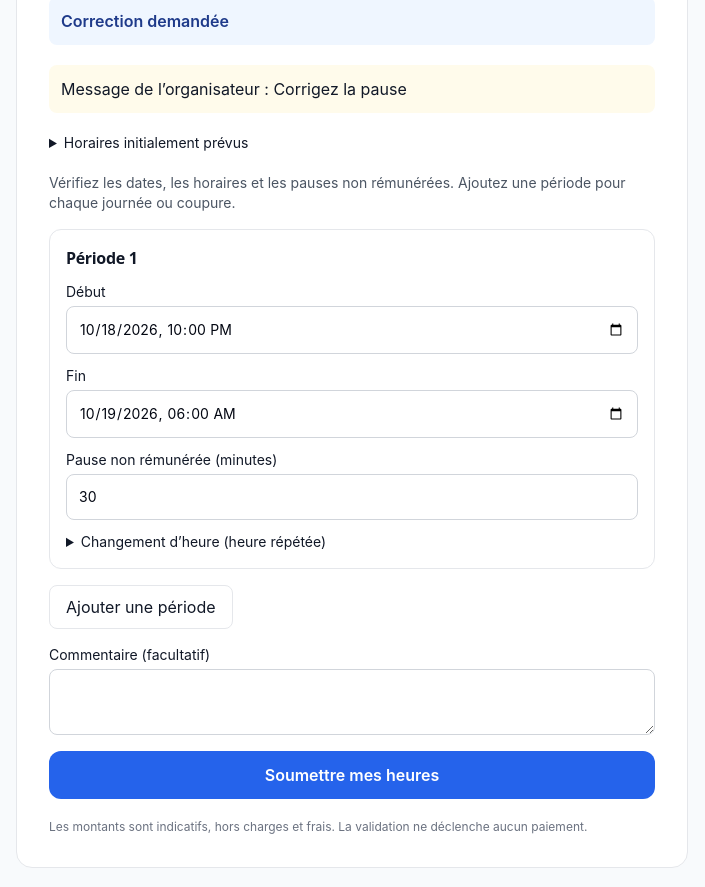
it: correction reopens submitted periods and preserves organizer reason
(page scrolled)
Expected: the button "Soumettre mes heures" is shown, left=49, top=751, right=655, bottom=799
Click the button "Ajouter une période" at {"x": 141, "y": 607}, box left=49, top=585, right=232, bottom=629
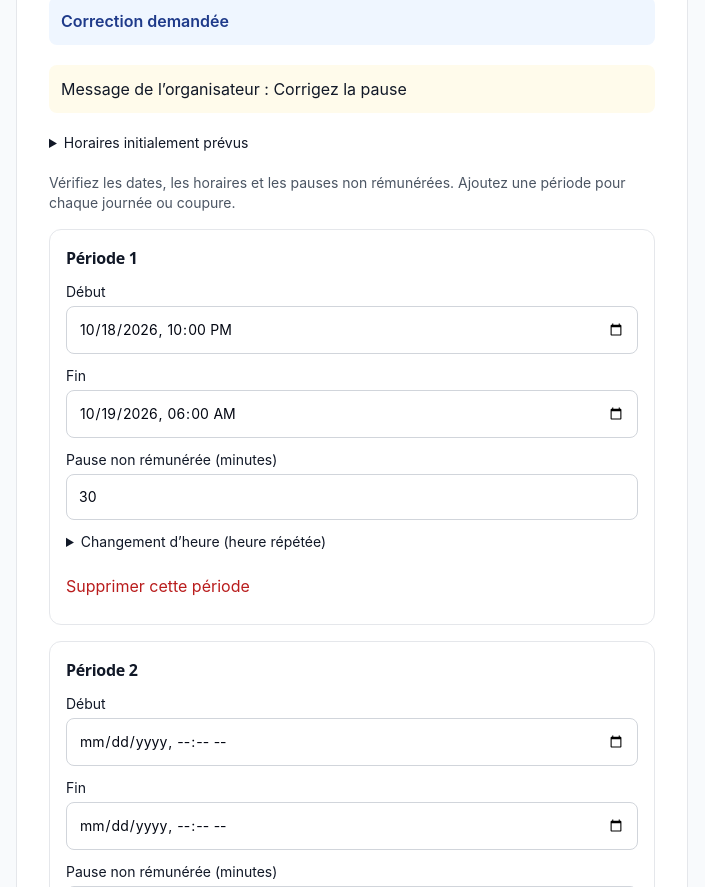
Now the number of fields is 4, box left=66, top=306, right=638, bottom=354; left=66, top=390, right=638, bottom=438; left=66, top=718, right=638, bottom=766; left=66, top=802, right=638, bottom=850
